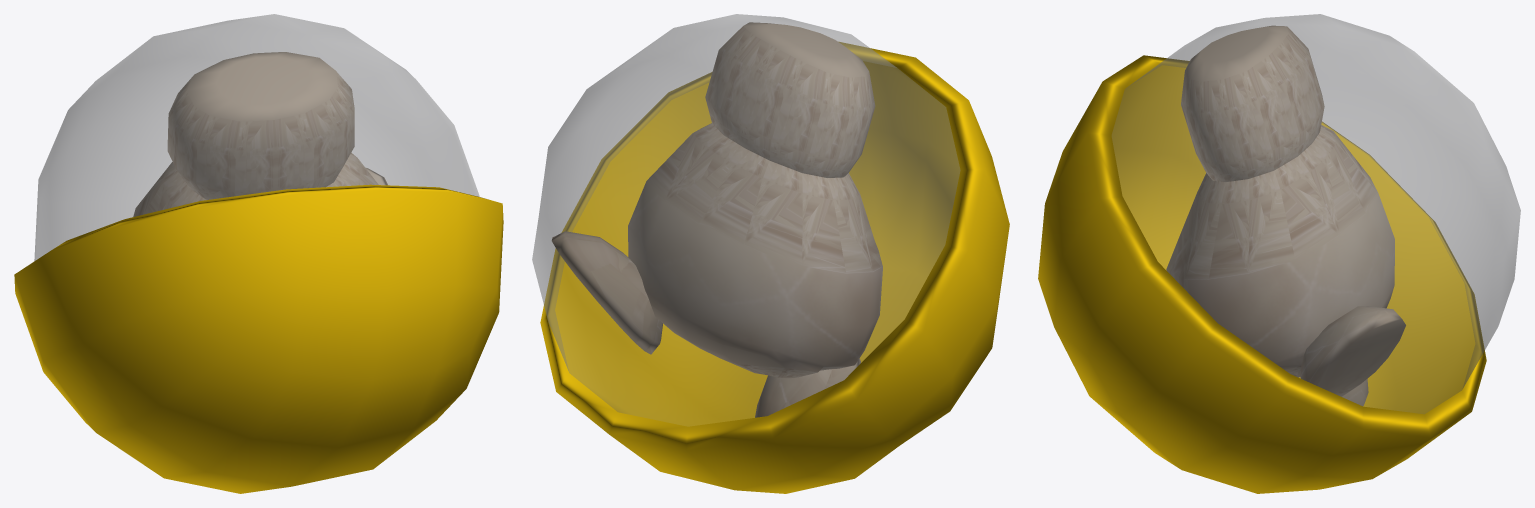
Rendered from ability capsule.fbx.
3 views of the same model, side by side, from view 1: azimuth 30°, elevation 25°; view 2: azimuth 150°, elevation 25°; view 3: azimuth 270°, elevation 25° (orthographic).
Visible parts, largest first — view 1: polySurface103; view 2: polySurface103; view 3: polySurface103.
Part boxes in pixels (bbox=[...]): polySurface103: bbox=[14, 14, 503, 493]; polySurface103: bbox=[532, 14, 1009, 493]; polySurface103: bbox=[1038, 14, 1520, 493].
Bounding box in the file's own units: 1.88 × 1.87 × 1.9.
